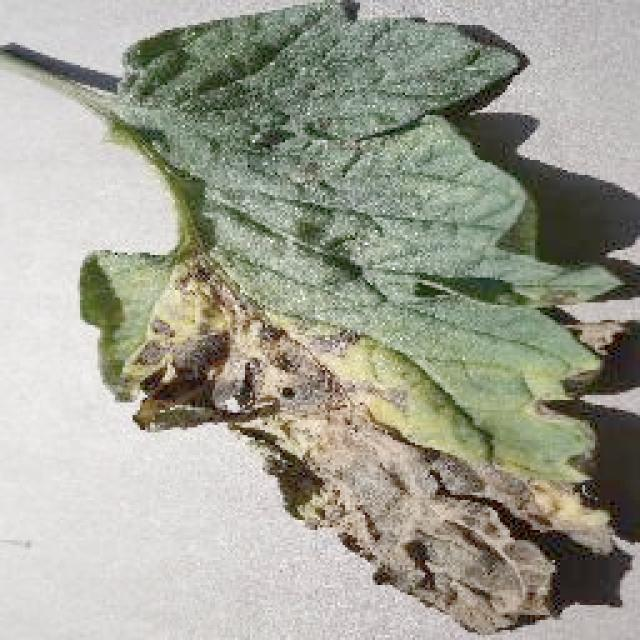Tomato Early blight leaf: (75, 0, 623, 635)
